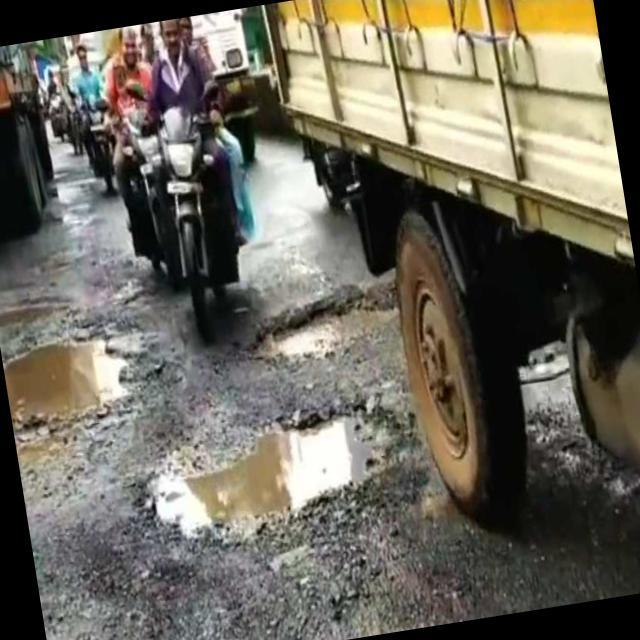Pothole: (143, 388, 405, 550), (0, 315, 149, 439), (245, 278, 398, 370)
